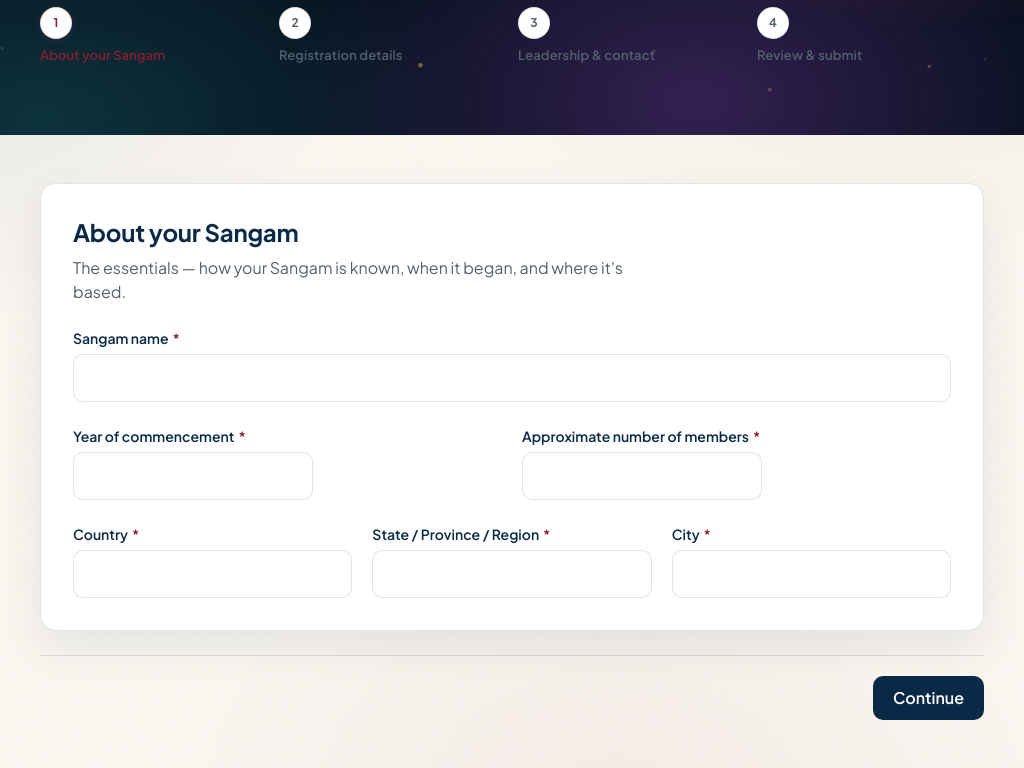
SangamRegistrationWizard auth-aware states › blocks Continue on Stage 1 until required identity fields are valid
(page scrolled)
Check: the field labelled "Sangam name*" is shown, box [73,354,951,402]
Click the button "Continue": (928, 698) [873,676,984,720]
(page scrolled)
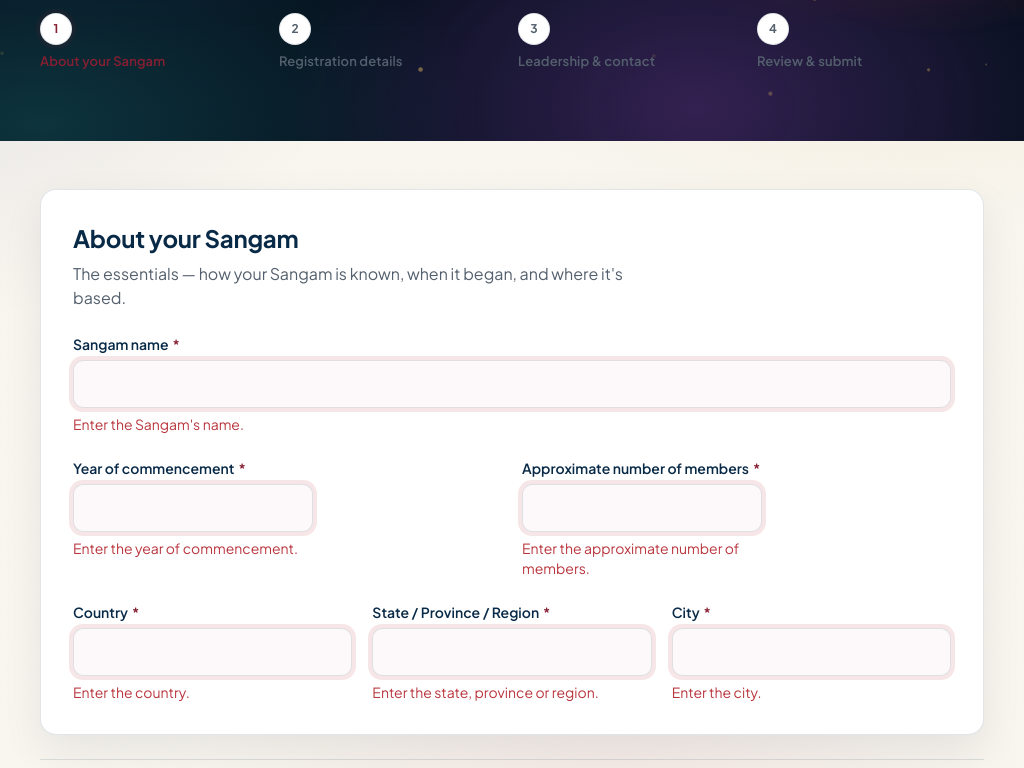
Check: the text "Enter the Sangam's name." is shown, box [73,416,244,434]
